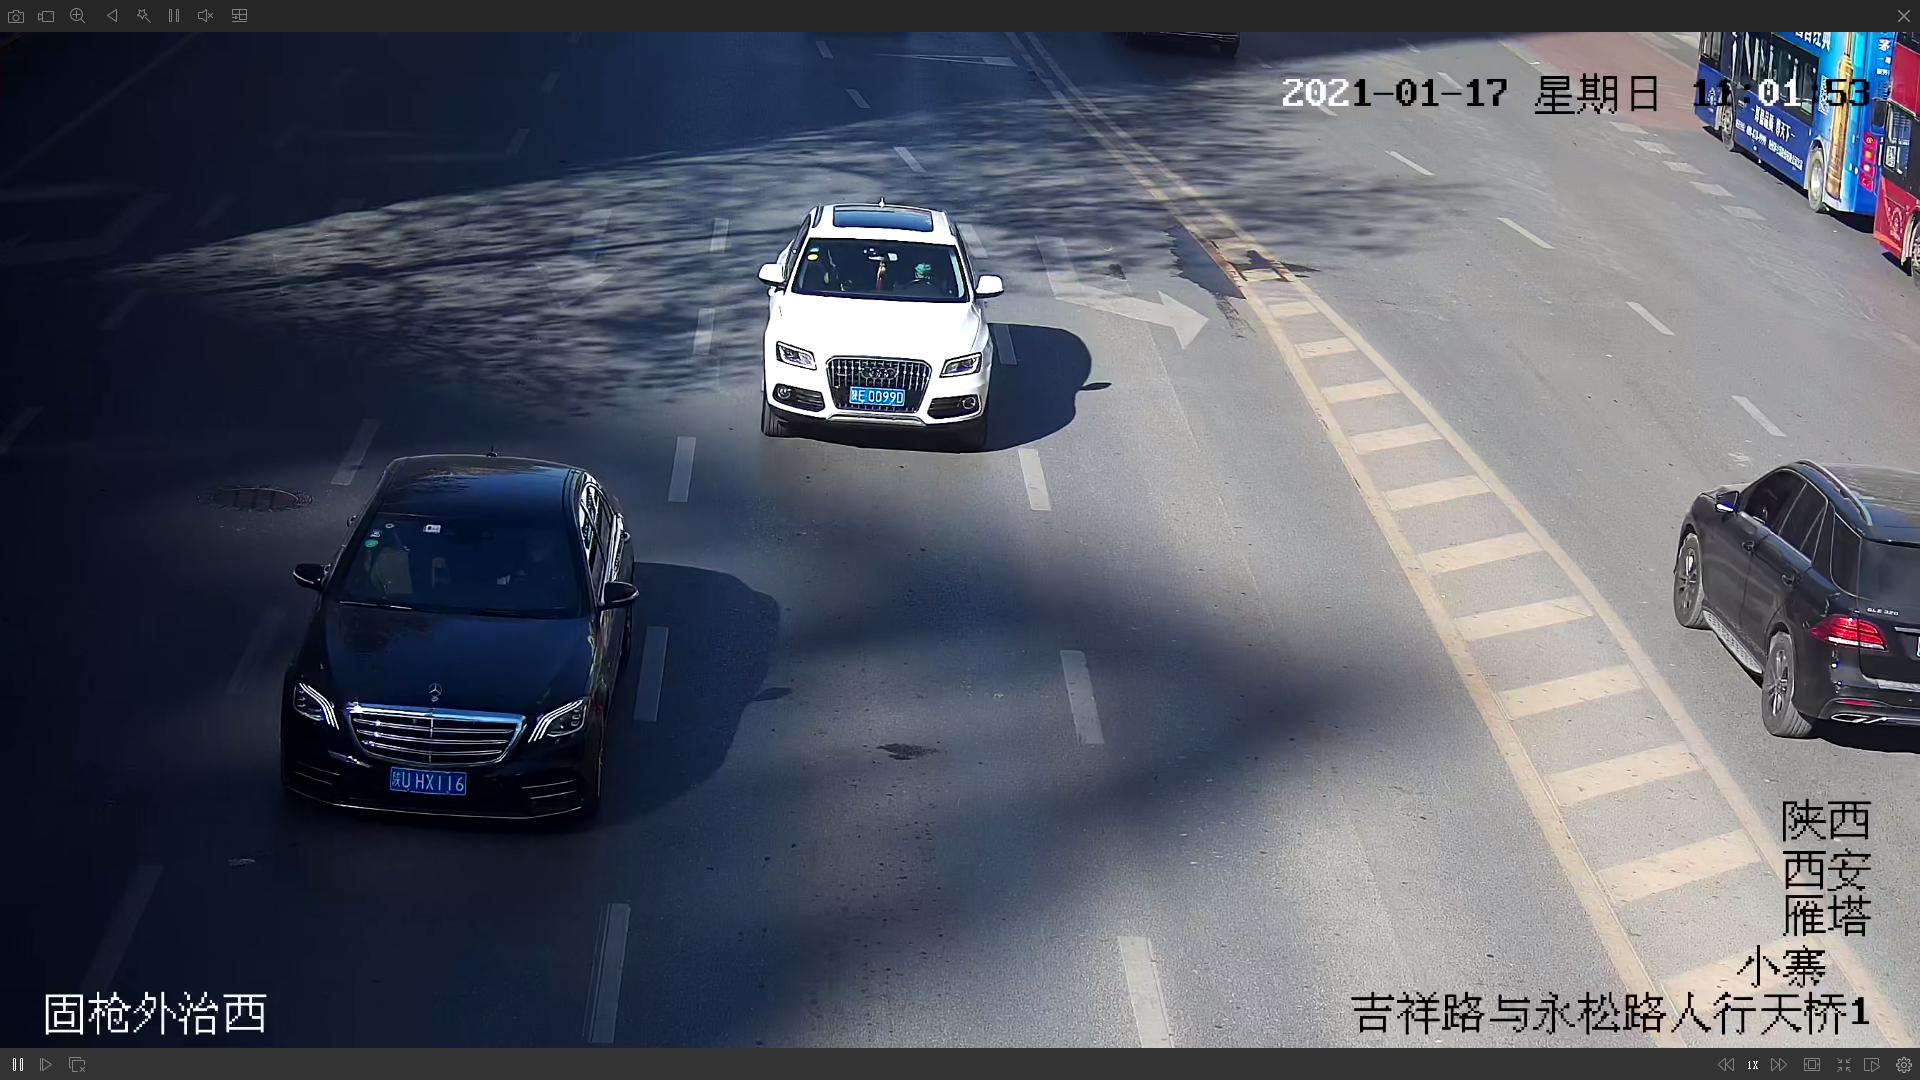black: (285, 455, 640, 824)
white: (752, 202, 1004, 444)
